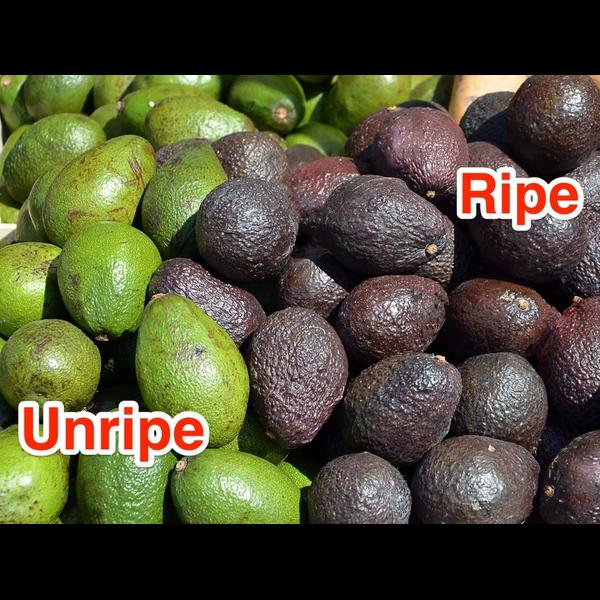ripe: (249, 307, 348, 450), (339, 353, 463, 464), (322, 174, 446, 274), (412, 435, 541, 524), (195, 177, 299, 282), (334, 274, 450, 367), (149, 257, 266, 349), (448, 352, 549, 453), (505, 75, 600, 174), (374, 106, 469, 203), (450, 278, 550, 356), (307, 451, 412, 524), (540, 296, 600, 423)
unripe: (135, 292, 249, 449), (43, 134, 156, 249), (57, 222, 163, 341), (141, 139, 229, 259), (170, 449, 305, 524), (1, 319, 102, 415), (2, 112, 107, 203), (145, 95, 258, 152), (1, 241, 63, 338), (227, 75, 306, 137)
